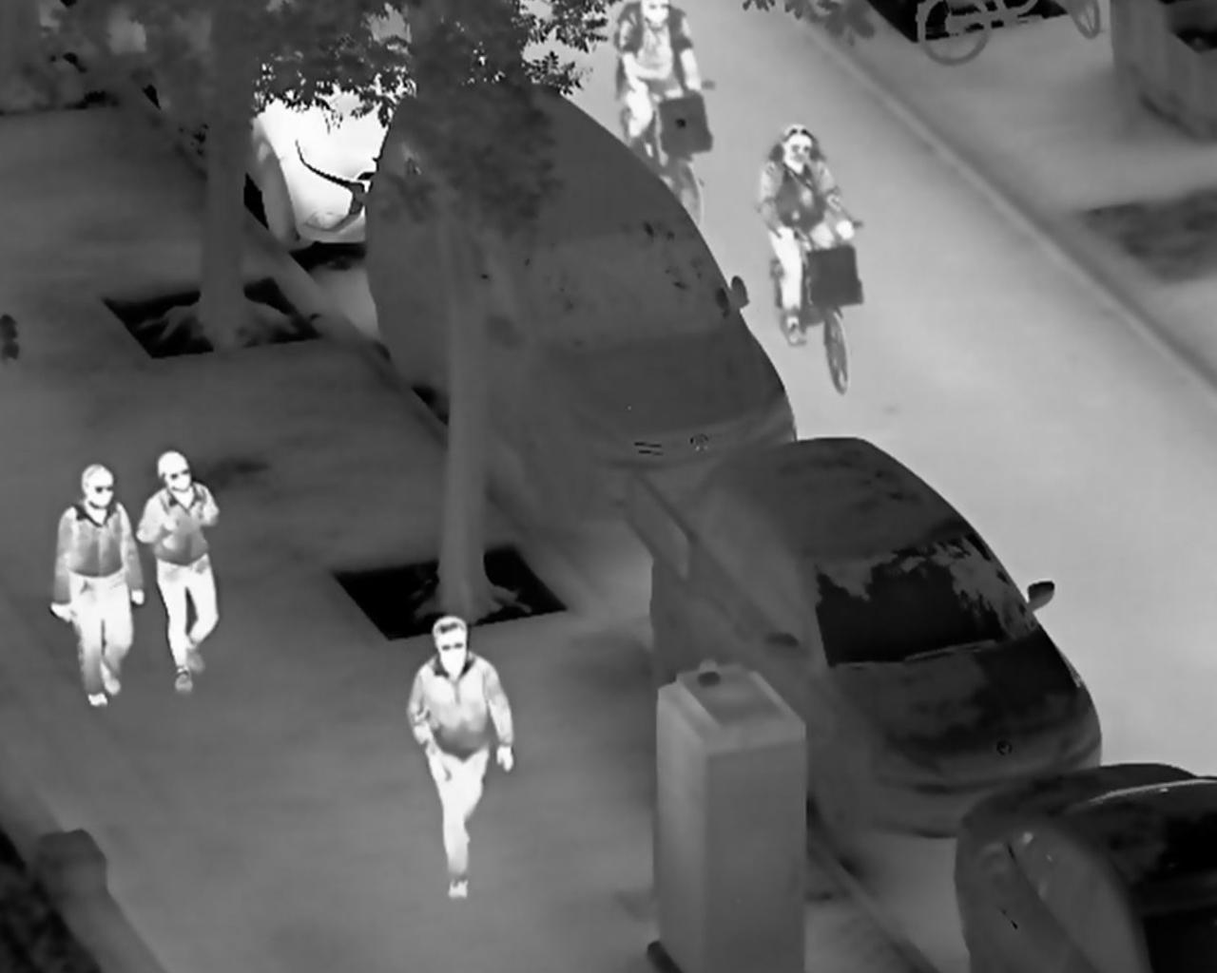person: (405, 615, 515, 902), (47, 462, 146, 713), (753, 122, 857, 350), (135, 448, 222, 694)
